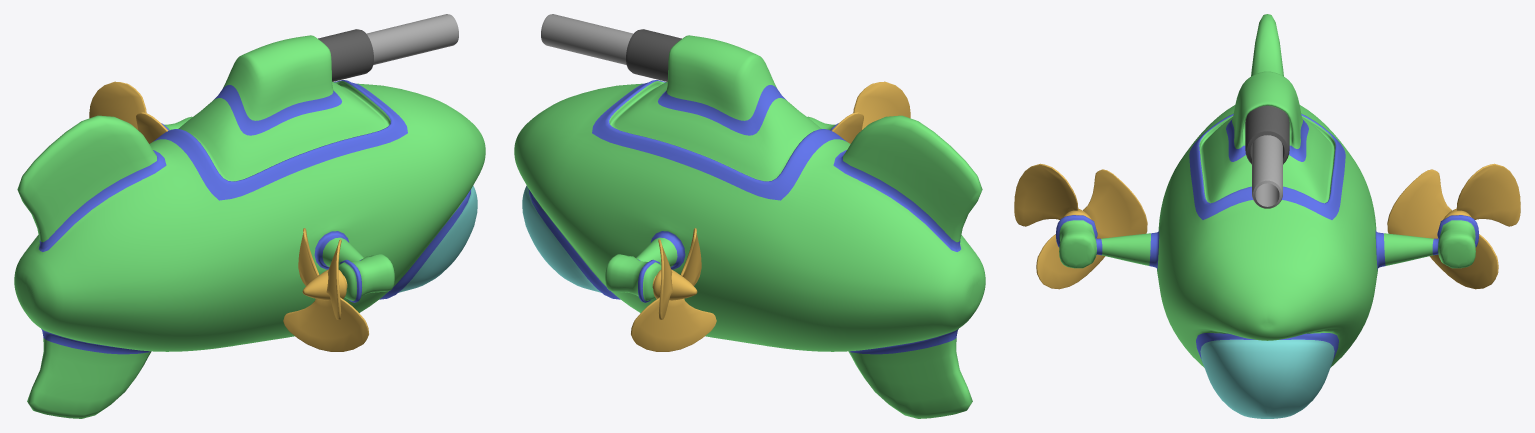
Rendered from Tank.fbx.
The picture shows the model from 3 angles, left to right: view 1: azimuth 30°, elevation 25°; view 2: azimuth 150°, elevation 25°; view 3: azimuth 270°, elevation 25°; orthographic projection.
Parts seen in each view (by area): view 1: ShipBase.004, Sphere.004, CannonBarrell#1.001, Sphere.014, CannonBarrell#1.003, Turbine.002; view 2: ShipBase.004, Sphere.014, CannonBarrell#1.001, Sphere.004, CannonBarrell#1.003, Turbine.008; view 3: ShipBase.004, Sphere.004, Sphere.014, CannonBarrell#1.001, CannonBarrell#1.003.
Boxes of the visible parts, box(x1,y1,x2,y2) form: ShipBase.004: box(14, 35, 485, 418); Sphere.004: box(283, 228, 368, 351); CannonBarrell#1.001: box(366, 14, 458, 64); Sphere.014: box(89, 81, 168, 143); CannonBarrell#1.003: box(318, 29, 373, 81); Turbine.002: box(302, 269, 347, 300); ShipBase.004: box(514, 35, 985, 418); Sphere.014: box(631, 228, 716, 351); CannonBarrell#1.001: box(541, 14, 633, 64); Sphere.004: box(831, 81, 910, 143); CannonBarrell#1.003: box(626, 29, 681, 81); Turbine.008: box(652, 269, 697, 300); ShipBase.004: box(1055, 14, 1479, 418); Sphere.004: box(1014, 163, 1147, 289); Sphere.014: box(1387, 163, 1520, 289); CannonBarrell#1.001: box(1252, 135, 1282, 208); CannonBarrell#1.003: box(1245, 105, 1289, 164).
Bounding box in the file's own units: 455 × 326 × 486.
